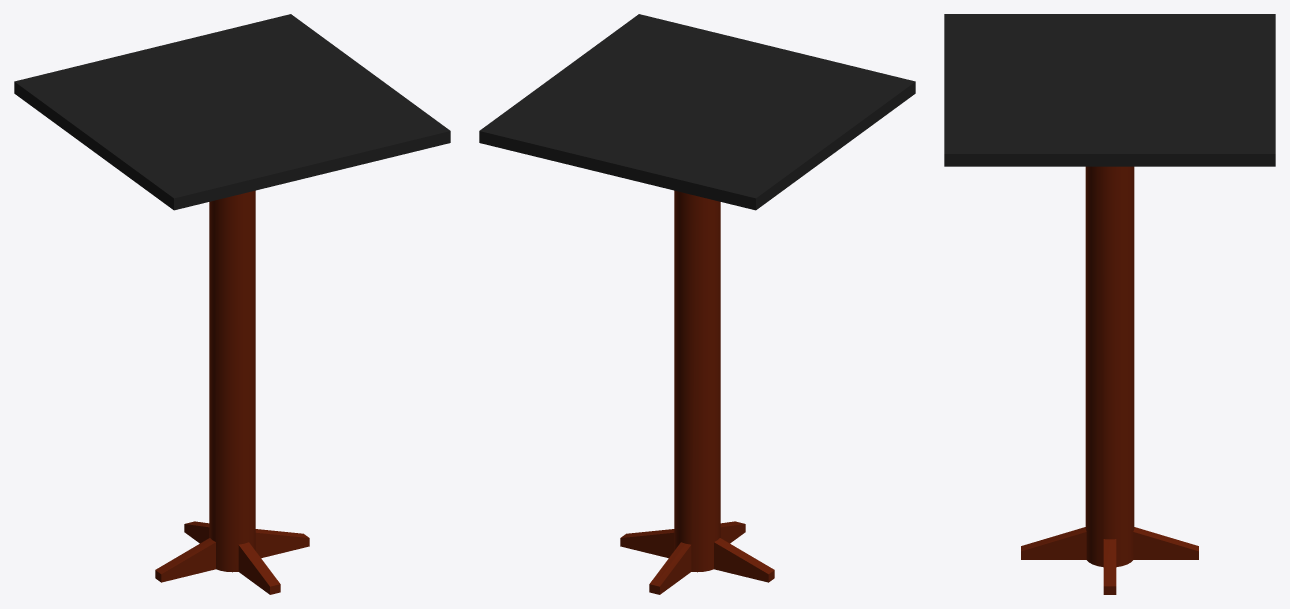
The model's file is TableModel.dae.
3 renders of one model, left to right at view 1: azimuth 30°, elevation 25°; view 2: azimuth 150°, elevation 25°; view 3: azimuth 270°, elevation 25°, orthographic. The views are drawn at different scales.
Parts seen in each view (by area): view 1: SketchUp (×2); view 2: SketchUp (×2); view 3: SketchUp (×2).
Part boxes in pixels (x1=…): SketchUp (×2): x1=14, y1=14, x2=450, y2=594; SketchUp (×2): x1=479, y1=14, x2=915, y2=594; SketchUp (×2): x1=944, y1=14, x2=1275, y2=594.
Size of the model in its own units: 24 by 24 by 37.81.
